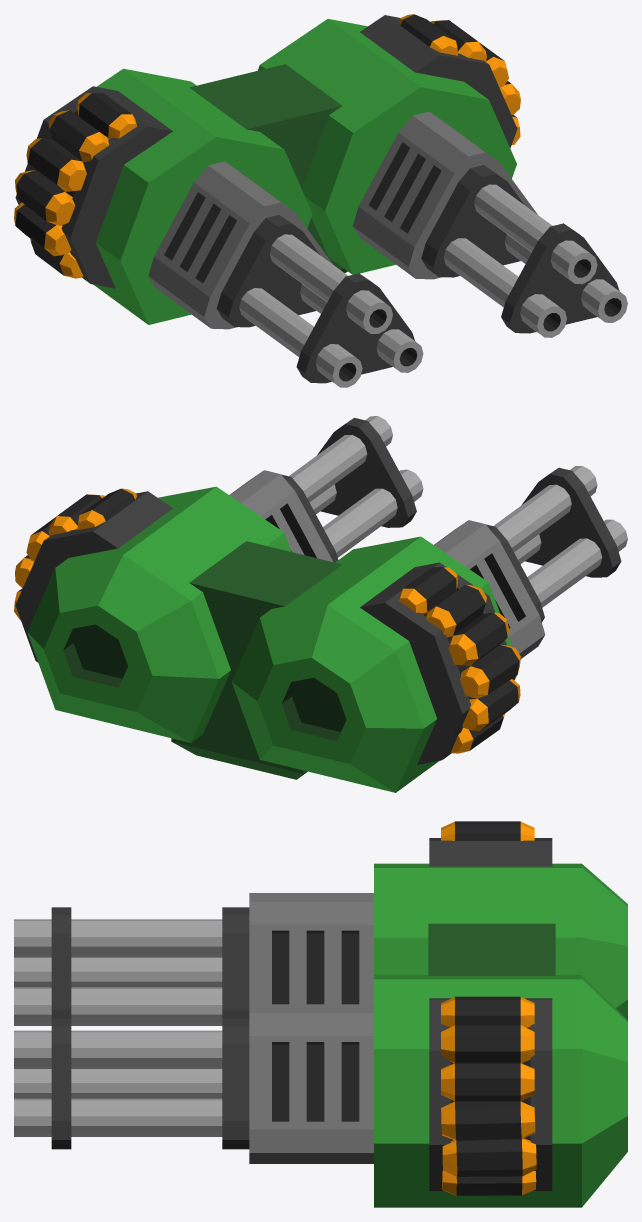
Rendered from two_machineguns_cannon.fbx.
3 renders of one model, top to bottom at view 1: azimuth 30°, elevation 25°; view 2: azimuth 150°, elevation 25°; view 3: azimuth 270°, elevation 25°, orthographic. The views are drawn at different scales.
Parts seen in each view (by area): view 1: Cube.044, Cylinder.014, Cylinder.021, Cube.042; view 2: Cylinder.014, Cube.044, Cylinder.021, Cube.042; view 3: Cube.044, Cylinder.014, Cylinder.021, Cube.042.
Boxes of the visible parts, x1=… form: Cube.044: x1=148, y1=111, x2=627, y2=387; Cylinder.014: x1=15, y1=15, x2=517, y2=324; Cylinder.021: x1=14, y1=14, x2=520, y2=278; Cube.042: x1=189, y1=64, x2=347, y2=272; Cylinder.014: x1=15, y1=486, x2=516, y2=792; Cube.044: x1=229, y1=416, x2=627, y2=658; Cylinder.021: x1=14, y1=488, x2=520, y2=753; Cube.042: x1=171, y1=541, x2=342, y2=779; Cube.044: x1=14, y1=893, x2=373, y2=1163; Cylinder.014: x1=374, y1=838, x2=627, y2=1207; Cylinder.021: x1=441, y1=821, x2=536, y2=1195; Cube.042: x1=428, y1=923, x2=555, y2=975.
Size of the model in its own units: 130 by 55.83 by 130.
